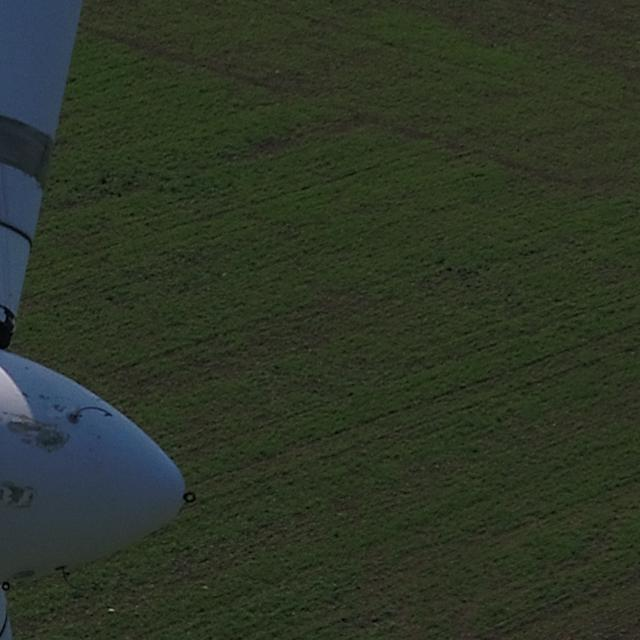damage: (5, 417, 73, 454), (4, 478, 36, 515), (11, 567, 36, 581), (54, 402, 65, 415), (37, 391, 47, 403), (18, 389, 29, 397)
